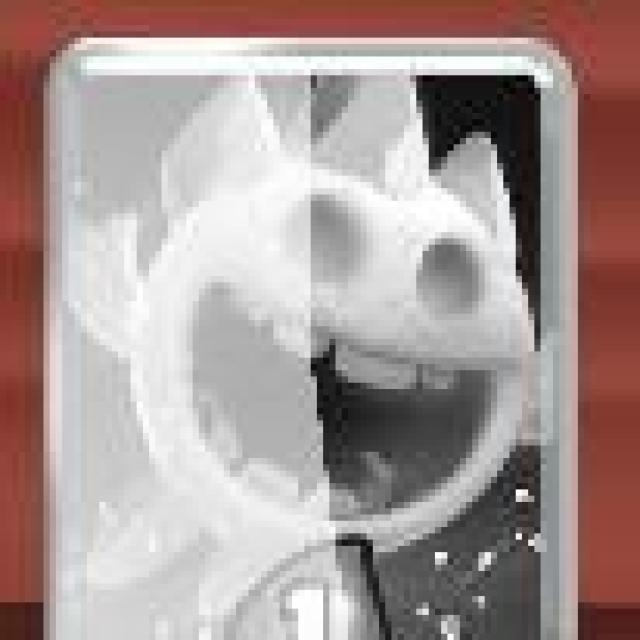Ice_Spirit: (46, 37, 569, 640)
